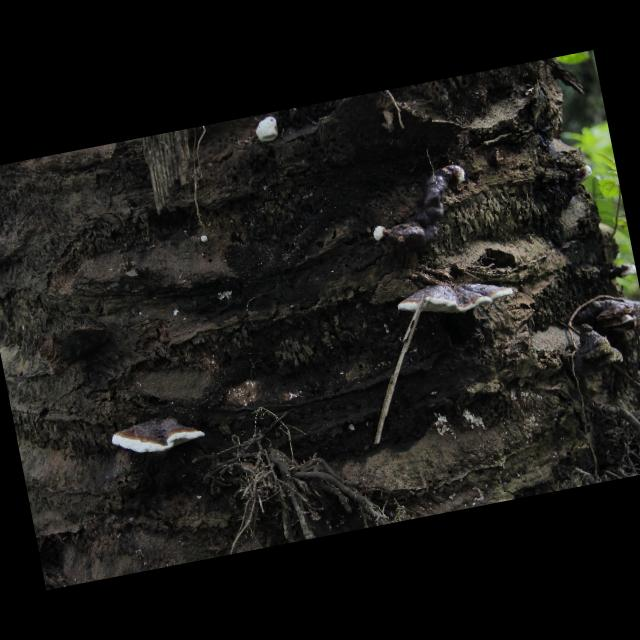ganoderma: (377, 167, 463, 257), (395, 270, 517, 328), (109, 413, 206, 465), (587, 293, 640, 340), (609, 264, 639, 281)
primordium: (254, 115, 284, 145), (571, 164, 595, 185), (450, 165, 469, 189), (373, 225, 388, 243), (200, 235, 211, 246)
